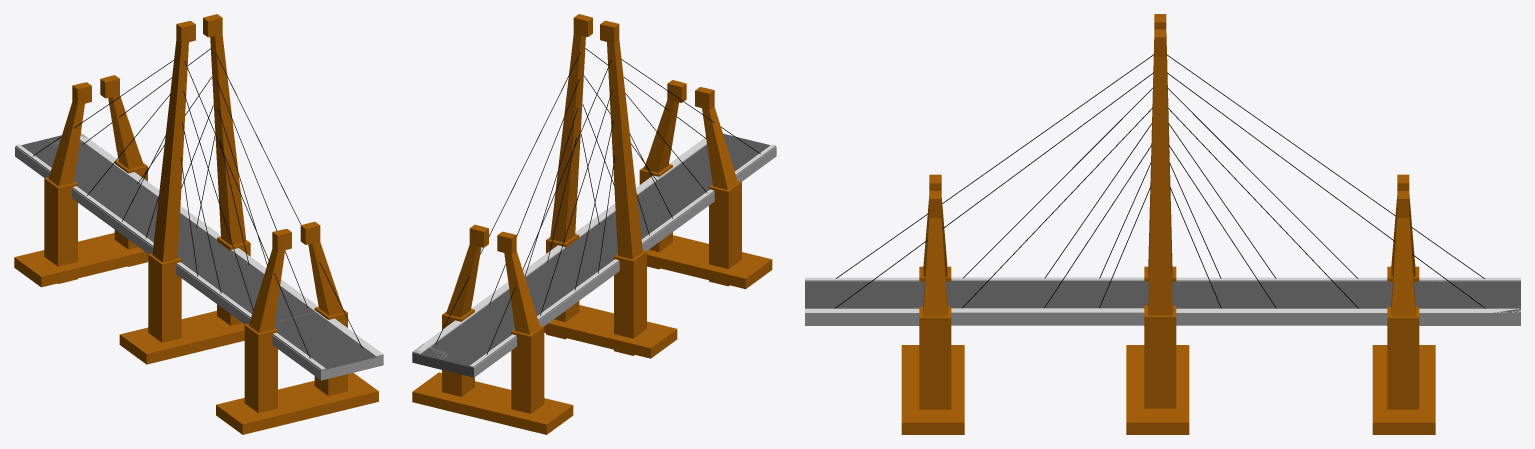
The model's file is bridge_1.fbx.
3 renders of one model, left to right at view 1: azimuth 30°, elevation 25°; view 2: azimuth 150°, elevation 25°; view 3: azimuth 270°, elevation 25°, orthographic. The views are drawn at different scales.
Visible parts, largest first — view 1: polySurface917, polySurface914, polySurface919, polySurface867, polySurface868, polySurface903, polySurface915, polySurface910, polySurface888, polySurface901, polySurface875, polySurface911 (+38 smaller); view 2: polySurface919, polySurface914, polySurface917, polySurface868, polySurface903, polySurface865, polySurface918, polySurface910, polySurface901, polySurface875, polySurface888, polySurface911 (+38 smaller); view 3: polySurface868, polySurface867, polySurface865, polySurface916, polySurface918, polySurface915, polySurface910, polySurface911, polySurface912, polySurface881, polySurface889, polySurface886 (+22 smaller).
Boxes of the visible parts, x1,y1,x2,y2 form: polySurface917: (119,317,217,364); polySurface914: (216,387,313,434); polySurface919: (14,240,112,287); polySurface867: (72,172,159,218); polySurface868: (100,193,199,245); polySurface903: (159,99,185,200); polySurface915: (287,372,378,417); polySurface910: (213,88,239,185); polySurface888: (244,324,277,379); polySurface901: (152,194,180,262); polySurface875: (44,178,77,233); polySurface911: (218,180,246,245); polySurface919: (476,388,573,434); polySurface914: (675,242,772,289); polySurface917: (580,311,677,358); polySurface868: (497,263,594,315); polySurface903: (610,98,636,197); polySurface865: (533,245,619,288); polySurface918: (412,372,502,417); polySurface910: (557,87,583,183); polySurface901: (615,192,642,259); polySurface875: (511,326,544,380); polySurface888: (709,181,741,236); polySurface911: (550,178,578,242); polySurface868: (1235,277,1321,325); polySurface867: (1321,277,1386,325); polySurface865: (1176,277,1235,325); polySurface916: (1126,385,1189,434); polySurface918: (1372,385,1435,434); polySurface915: (901,385,964,434); polySurface910: (1150,123,1170,241); polySurface911: (1148,235,1172,315); polySurface912: (1144,305,1176,364); polySurface881: (1387,310,1419,362); polySurface889: (919,310,951,362); polySurface886: (919,362,951,409).
Size of the model in its own units: 168 by 381 by 654.
